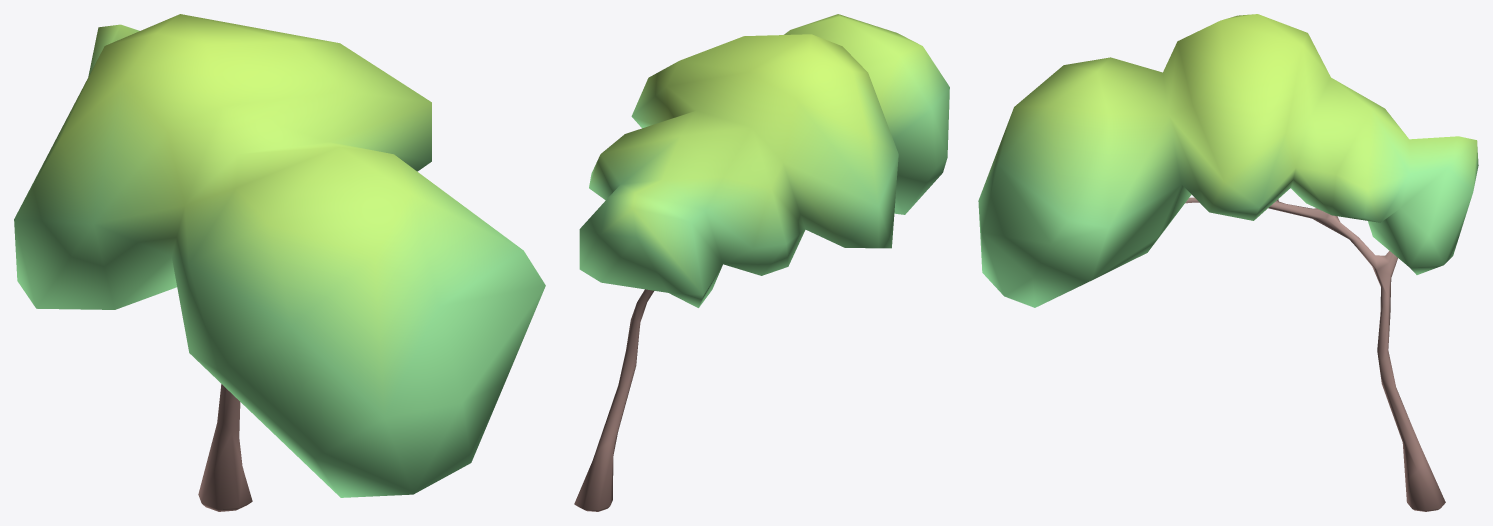
File: Tree03_M_Green.fbx
3 renders of one model, left to right at view 1: azimuth 30°, elevation 25°; view 2: azimuth 150°, elevation 25°; view 3: azimuth 270°, elevation 25°, orthographic. The views are drawn at different scales.
Visible parts, largest first — view 1: Tree03_M_Green; view 2: Tree03_M_Green; view 3: Tree03_M_Green.
Boxes of the visible parts, <box> form: Tree03_M_Green: <box>14,14,545,511</box>; Tree03_M_Green: <box>574,14,949,511</box>; Tree03_M_Green: <box>978,14,1478,511</box>.
Size of the model in its own units: 3.95 by 6.11 by 6.47.
